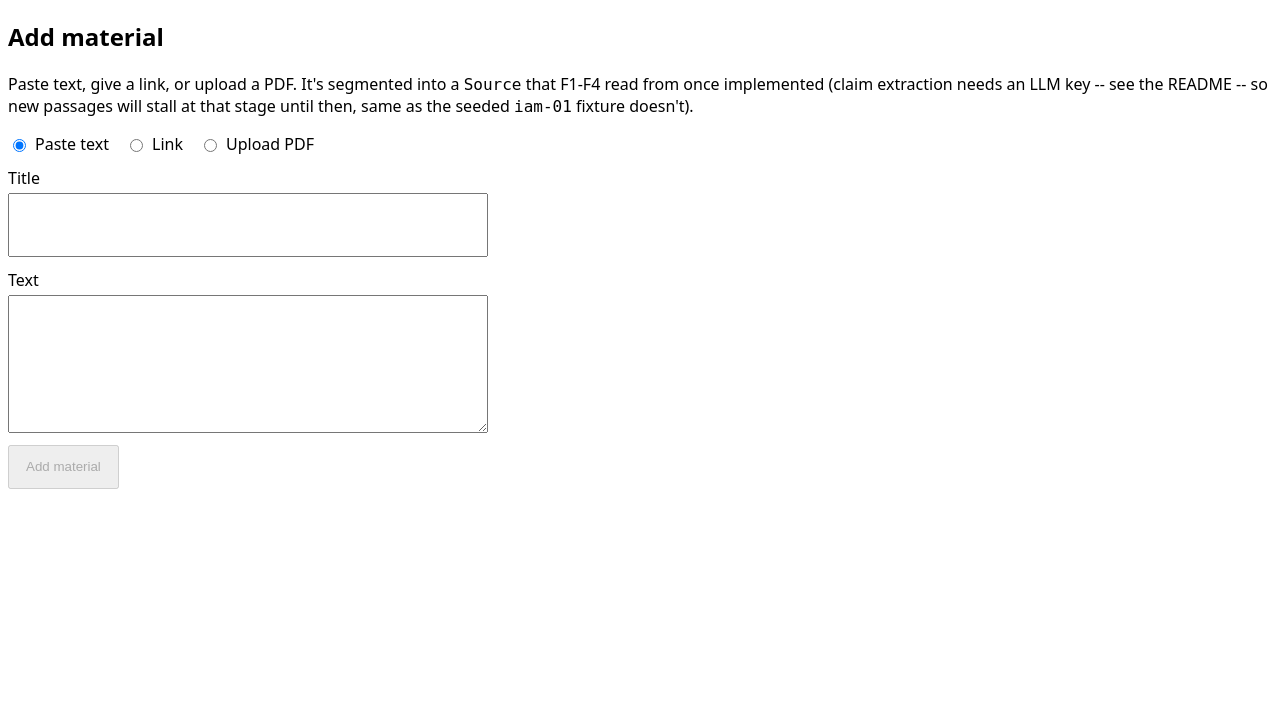
Test case: AddMaterial › posts a multipart request and shows the resulting passage id
Type "My passage" into the field labelled "Title" at (248, 225), box [8,193,488,257]
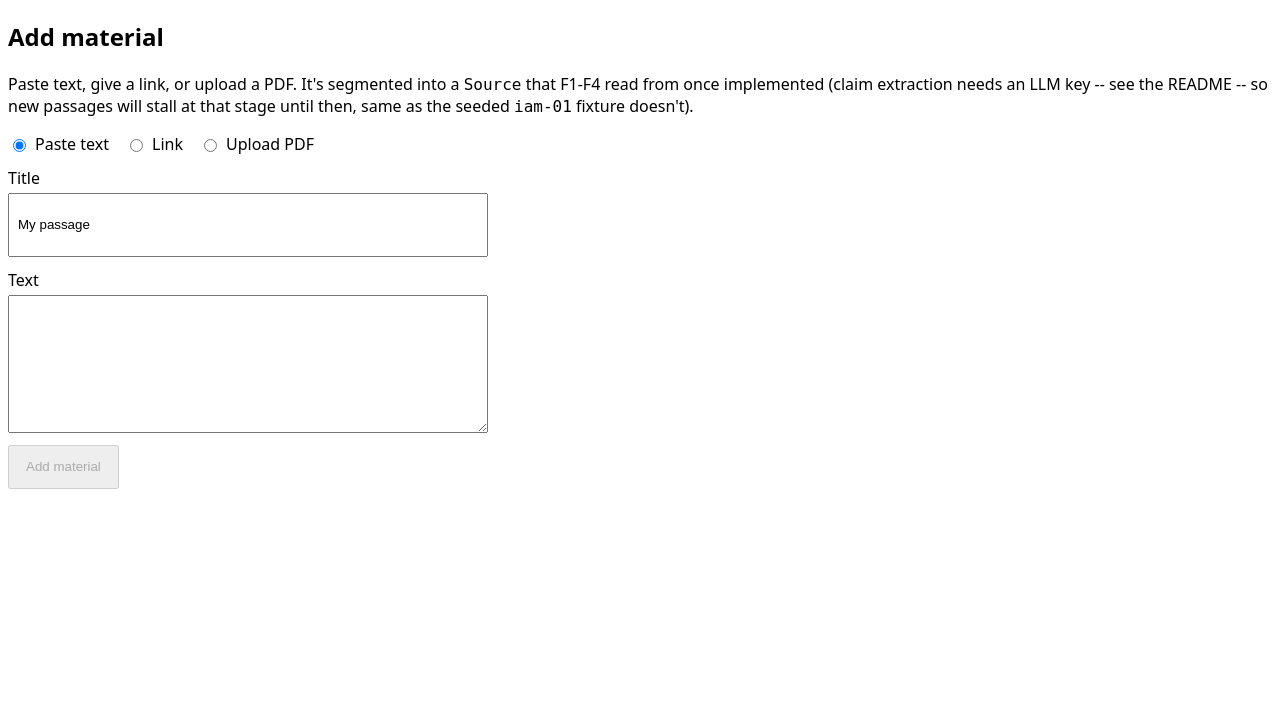
Type "Some sentence." into the text box labelled "Text" at (248, 364), box [8,295,488,433]
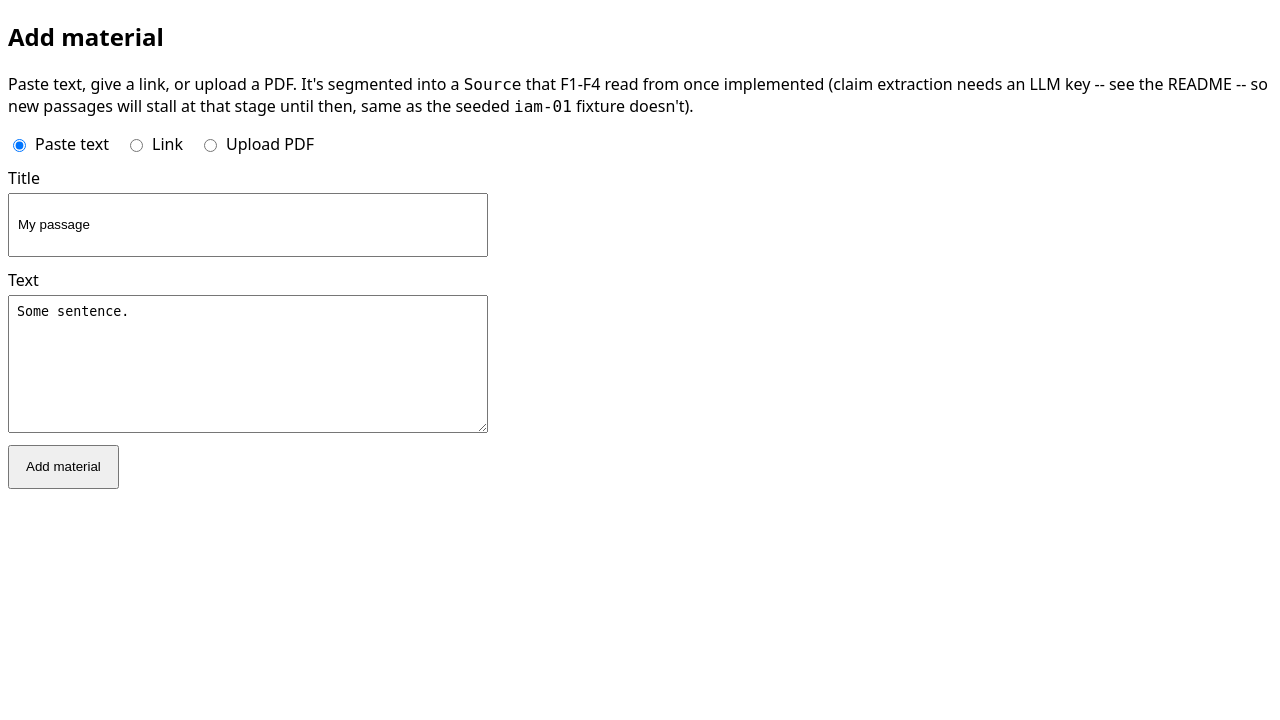
Click the button "Add material" at (63, 467), box [8,445,119,489]
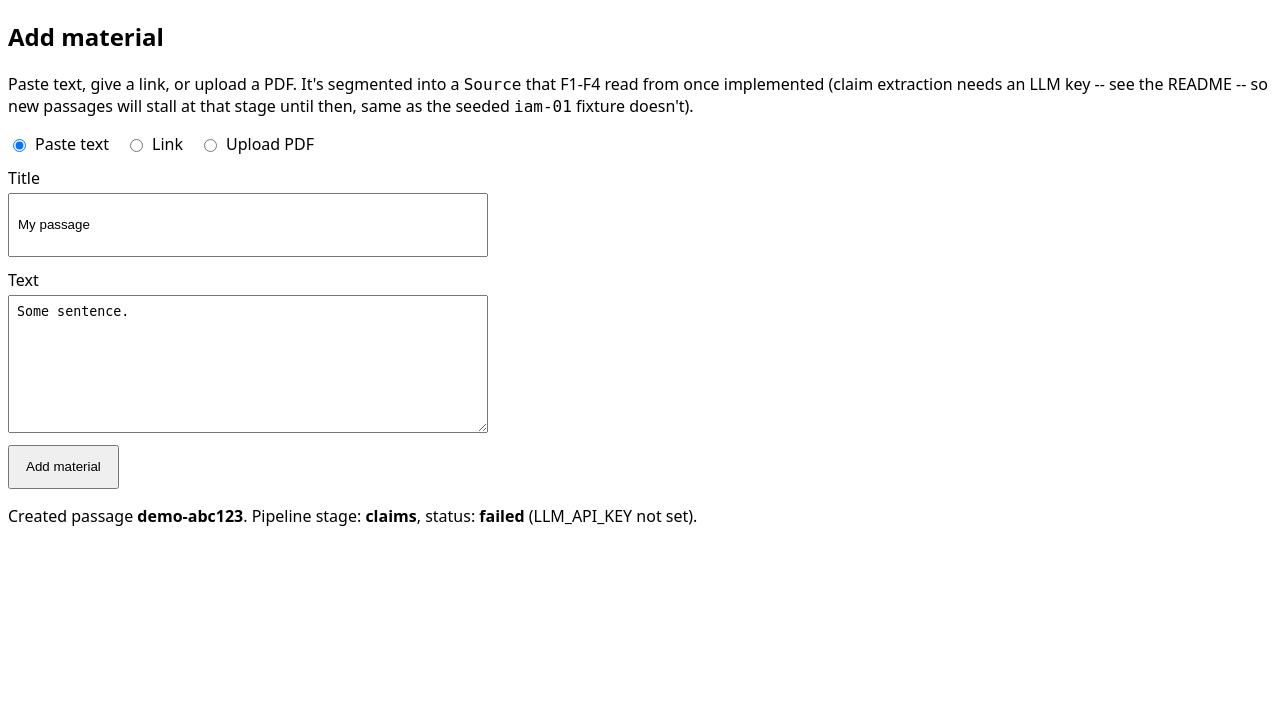
Now the text "demo-abc123" is shown, box [137,505,243,527]
